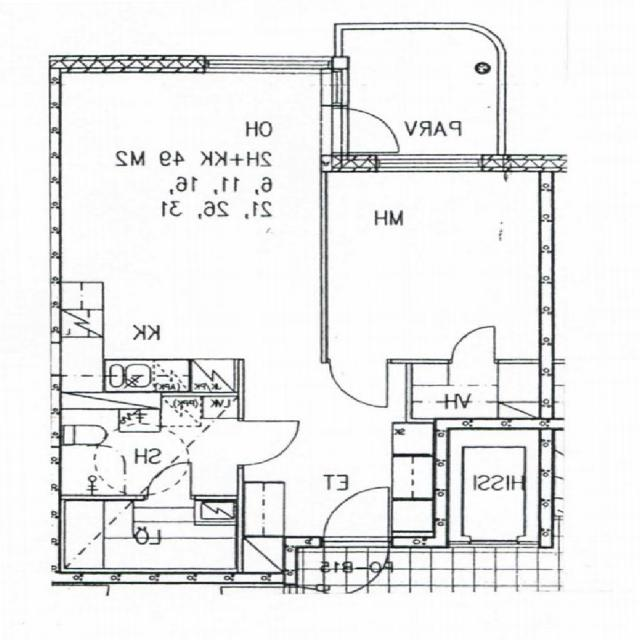door: (324, 486, 389, 548), (324, 537, 389, 598), (320, 109, 404, 152), (331, 358, 388, 408), (238, 421, 300, 464), (148, 461, 192, 500), (453, 326, 495, 364)
